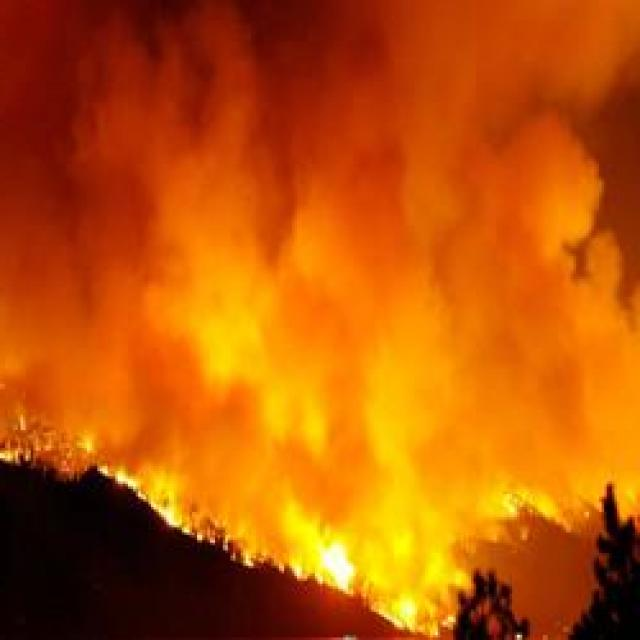fire: (314, 522, 358, 590), (391, 594, 421, 626), (112, 471, 140, 491), (158, 506, 180, 528)
smoke: (456, 253, 630, 428), (73, 22, 242, 184), (180, 195, 347, 354), (466, 126, 594, 282), (274, 363, 408, 508), (80, 326, 234, 444)
